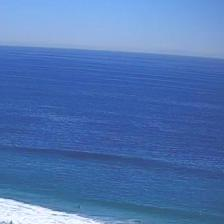surfer: (134, 220, 140, 223), (77, 205, 80, 208)
